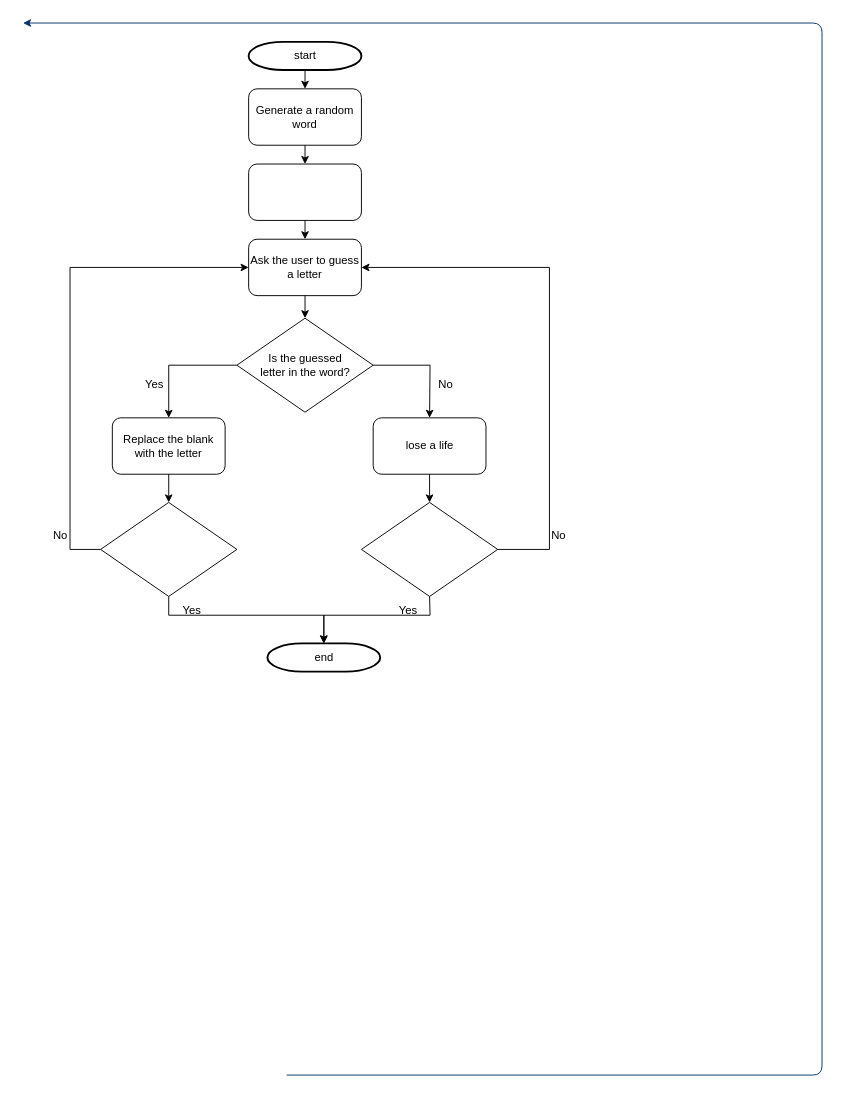
The diagram is 846 pixels wide and 1100 high, and some of its shapes have lost their labels. Here are the shapes that lost their labels. From the top down, the box of each, then its label:
(248, 163, 361, 220): generate as many blanks as letters in word
(100, 501, 237, 596): Are all the blanks filled?
(360, 501, 498, 596): Have they run out of lives?
